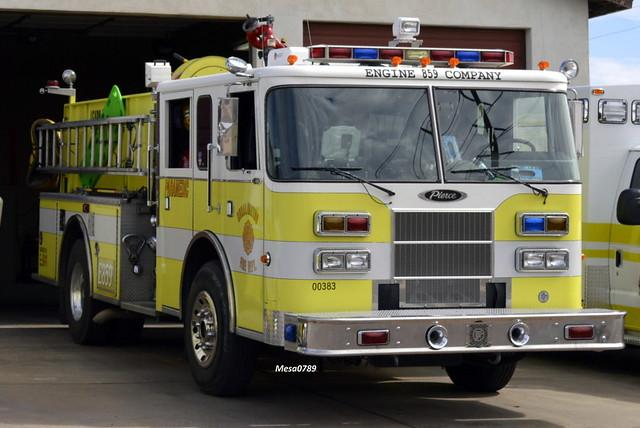firetruck_off: (37, 43, 625, 403)
